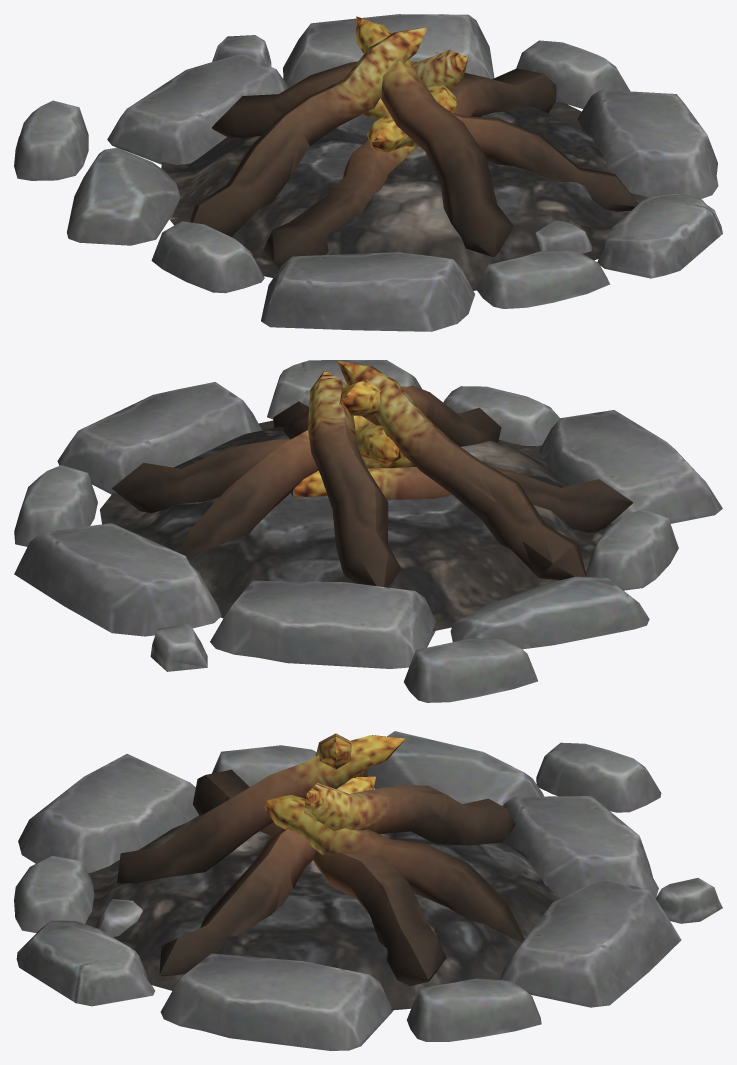
The model's file is Lty_huodui.FBX.
3 renders of one model, top to bottom at view 1: azimuth 30°, elevation 25°; view 2: azimuth 150°, elevation 25°; view 3: azimuth 270°, elevation 25°, orthographic. The views are drawn at different scales.
Visible parts, largest first — view 1: Mesh 1; view 2: Mesh 1; view 3: Mesh 1.
Boxes of the visible parts, x1=… form: Mesh 1: x1=14, y1=14, x2=722, y2=331; Mesh 1: x1=14, y1=360, x2=722, y2=702; Mesh 1: x1=14, y1=731, x2=722, y2=1050.
Bounding box in the file's own units: 176 × 49.14 × 175.
